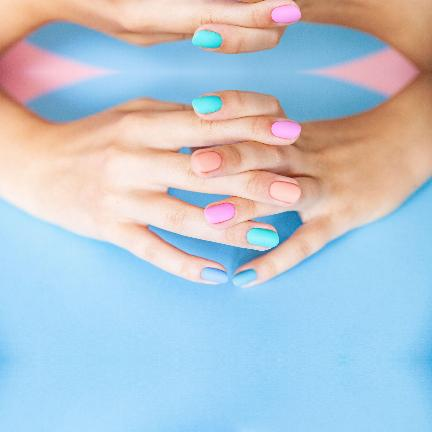Nail: (270, 181, 301, 203), (191, 151, 222, 173), (246, 228, 279, 248), (204, 203, 235, 224), (192, 95, 222, 114), (192, 30, 222, 49), (272, 121, 301, 138), (272, 6, 301, 23), (233, 269, 257, 287), (201, 268, 228, 284)
